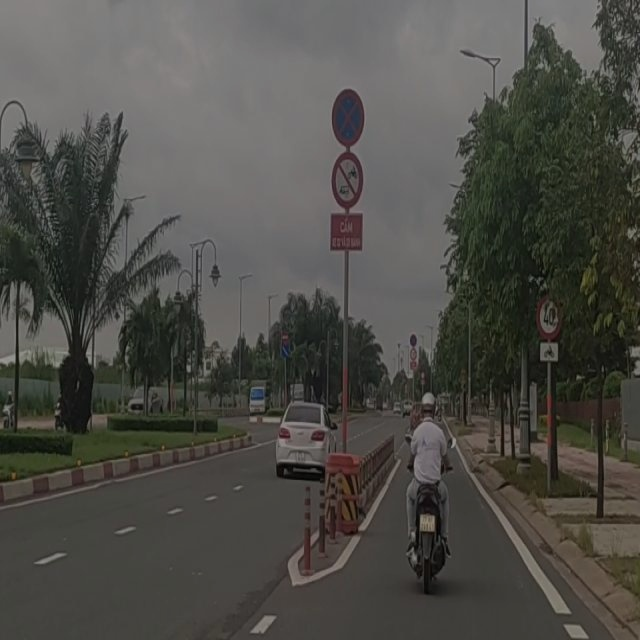P.111: (331, 150, 365, 207)
P.127*40: (537, 295, 563, 341)
P.130: (331, 82, 365, 150)
S.505a*Xe may: (539, 338, 559, 366)
